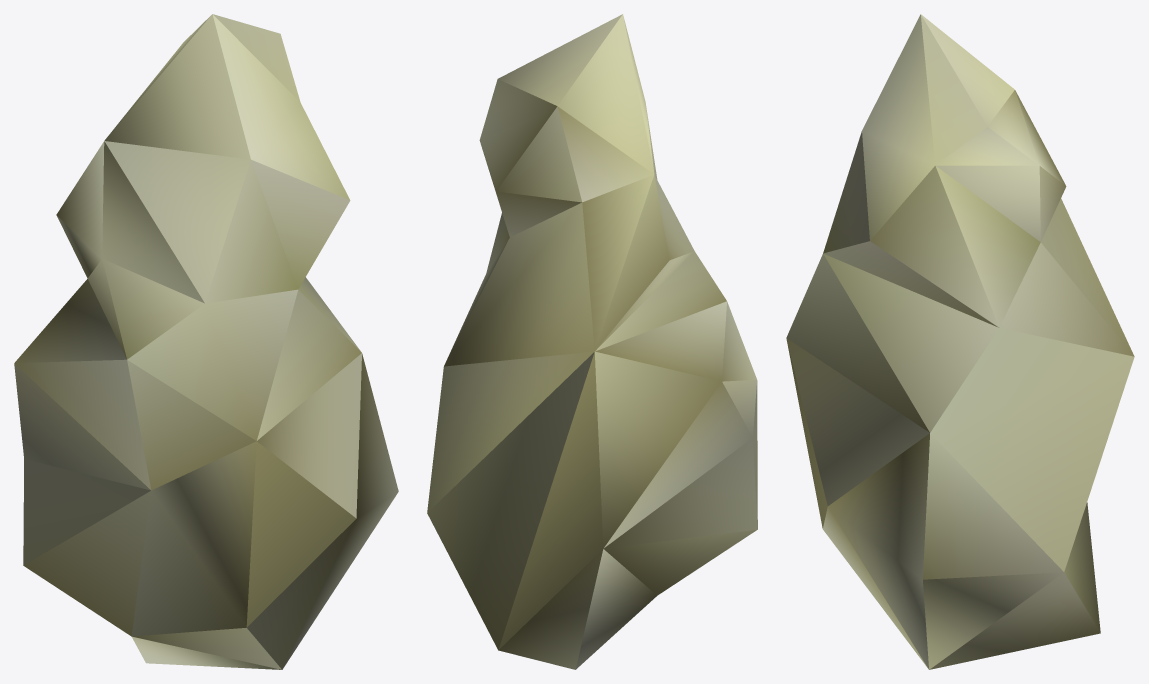
The model's file is gvce.hrc.gltf.
3 renders of one model, left to right at view 1: azimuth 30°, elevation 25°; view 2: azimuth 150°, elevation 25°; view 3: azimuth 270°, elevation 25°, orthographic. The views are drawn at different scales.
Parts seen in each view (by area): view 1: gvceBone0_null; view 2: gvceBone0_null; view 3: gvceBone0_null.
Boxes of the visible parts, x1,y1,x2,y2 form: gvceBone0_null: [14, 14, 398, 669]; gvceBone0_null: [427, 14, 757, 669]; gvceBone0_null: [786, 14, 1134, 669].
Bounding box in the file's own units: 7.19 × 13.27 × 6.59.
